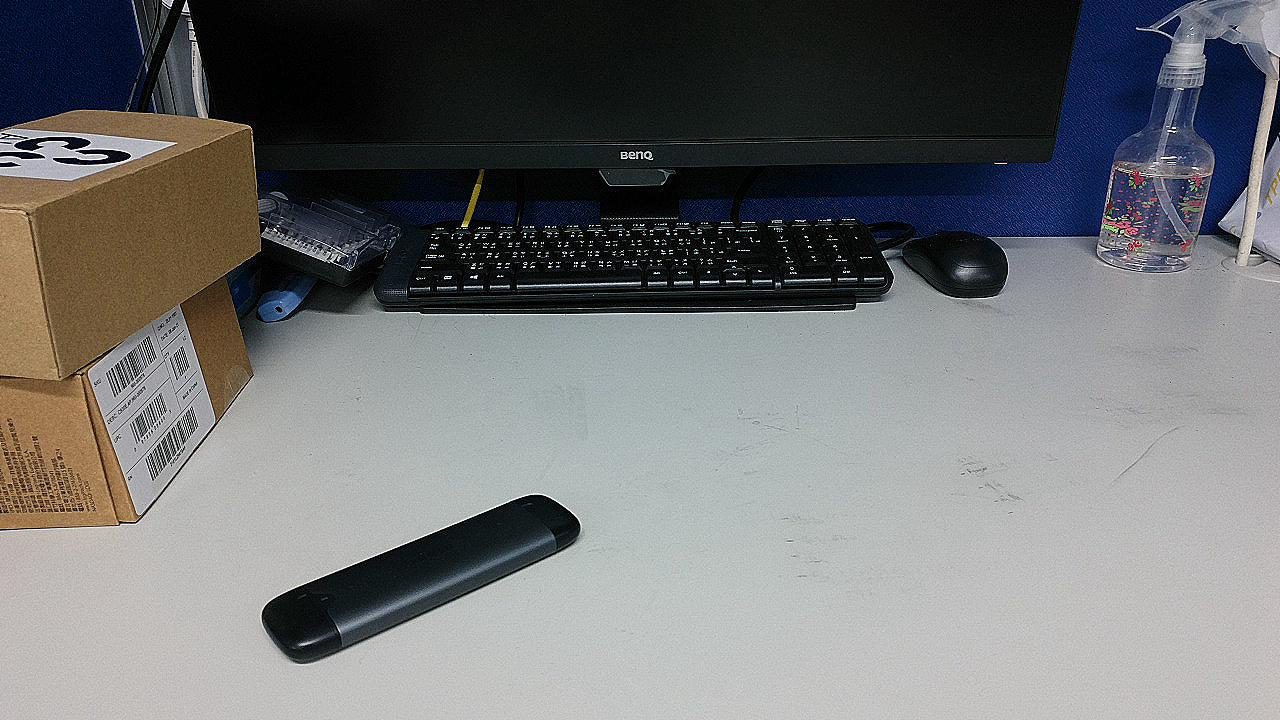long: (678, 459, 737, 670)
